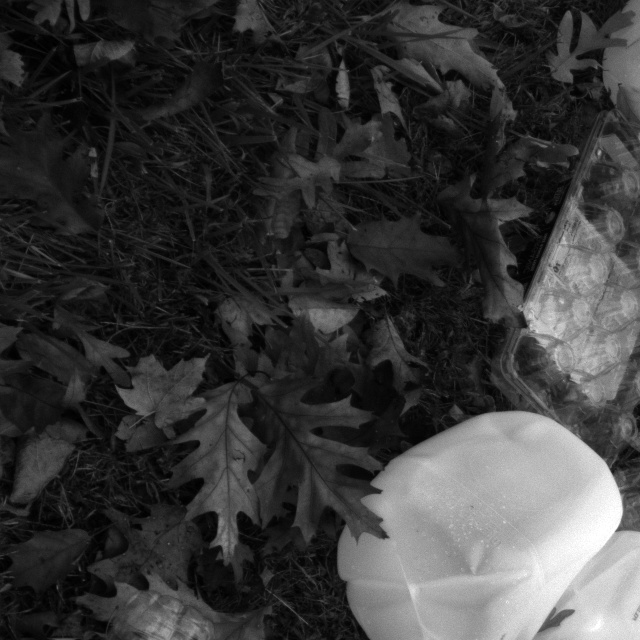can: (333, 409, 628, 640), (534, 523, 640, 640)
container: (495, 92, 640, 484)
